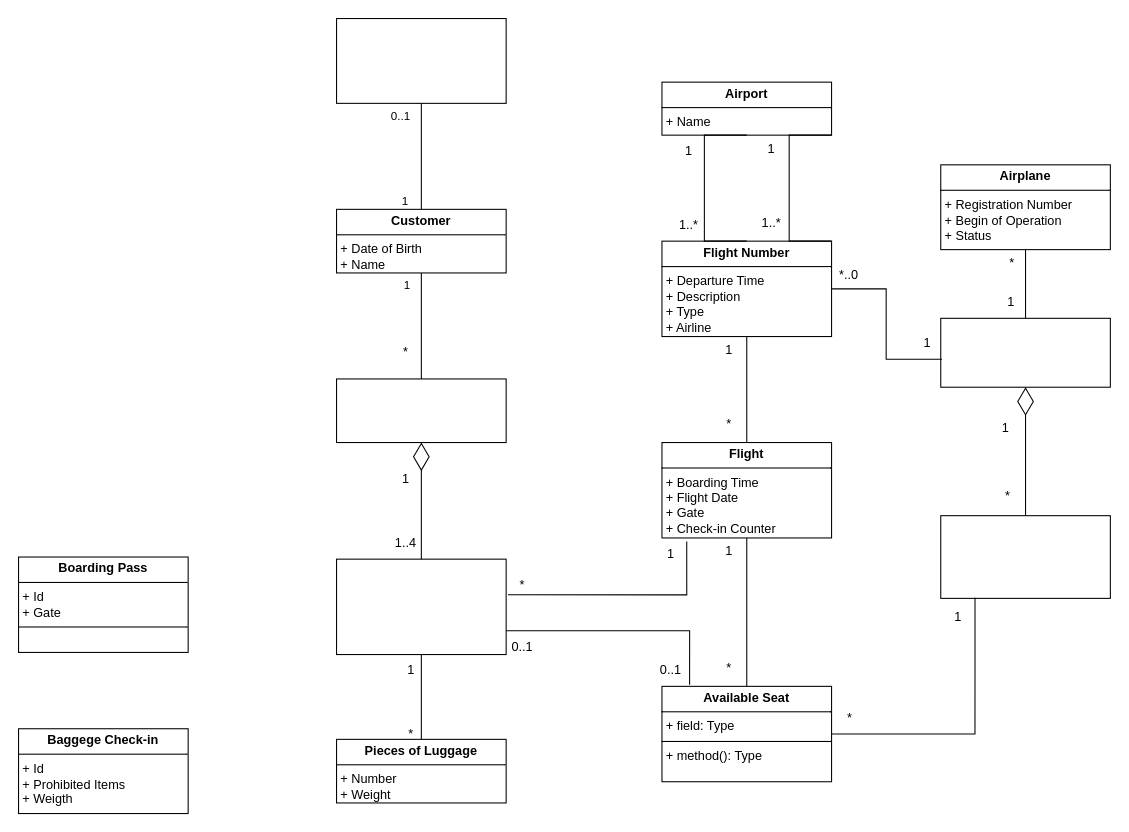
This 1129x832 diagram has some shape labels left out. Here are the shapes that lost their labels. From the top down, the centre of each, then its label:
point 420,60: Frequent Flyer Card + FFC Number + Miles + MealCode
point 1025,352: Plane Model + Description + Graphic
point 420,410: Ticket + Ticketing Code + Number
point 1025,556: Seat + Size + Number + Location
point 420,606: Coupon + Date of Redemption + Class + Standby + Meal Code
